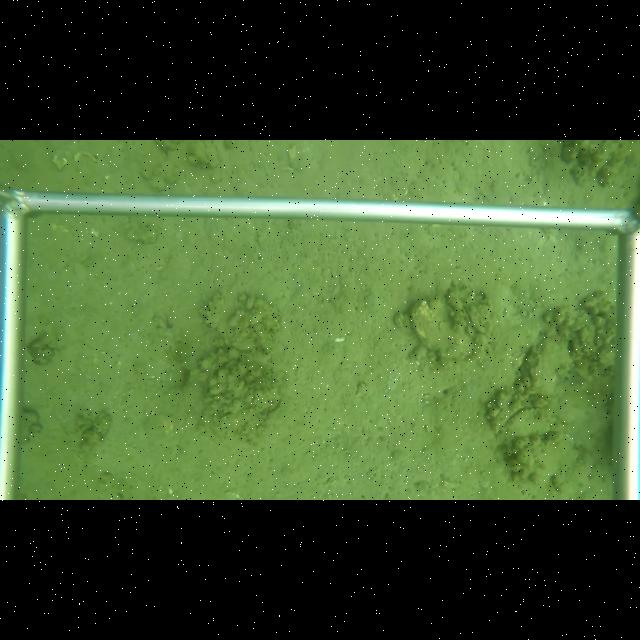Oyster-Closed: (204, 292, 283, 352), (408, 300, 472, 361), (502, 405, 565, 441), (460, 298, 489, 336), (464, 324, 475, 339)
